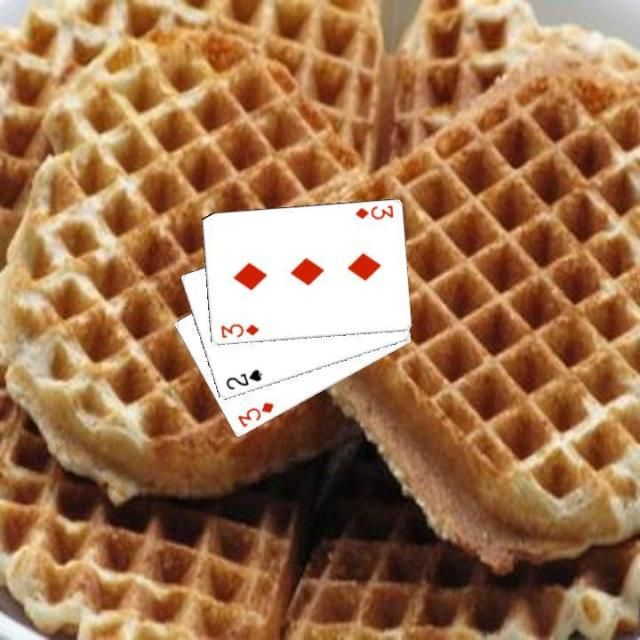2S: (221, 365, 264, 392)
3D: (233, 398, 276, 429), (217, 320, 260, 340), (351, 202, 395, 221)
